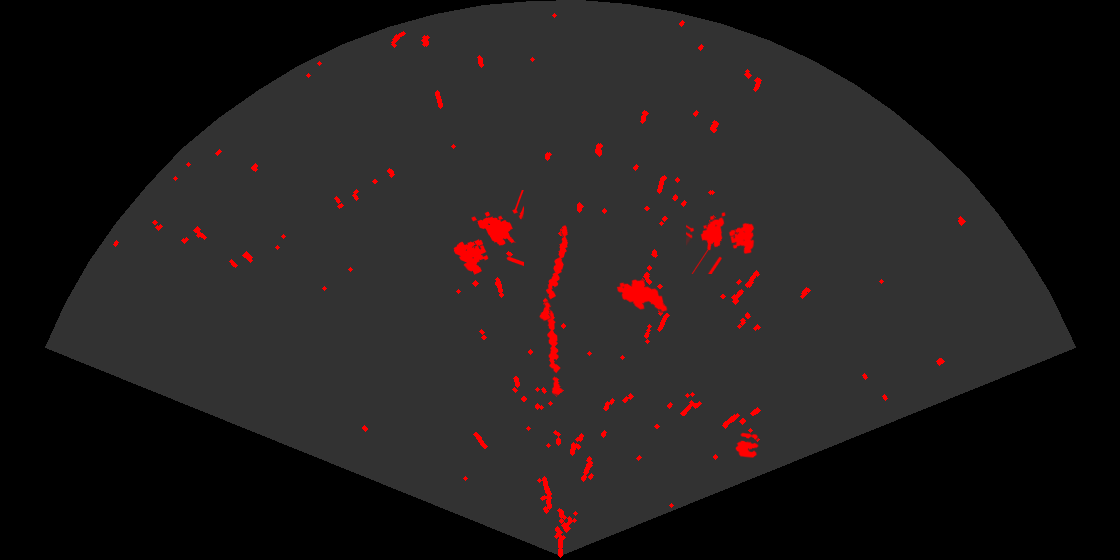AUV: (615, 277, 669, 314)
ball: (734, 431, 760, 459)
cage: (452, 190, 524, 276), (686, 210, 756, 274)
chain: (538, 224, 570, 323), (541, 296, 564, 397)
